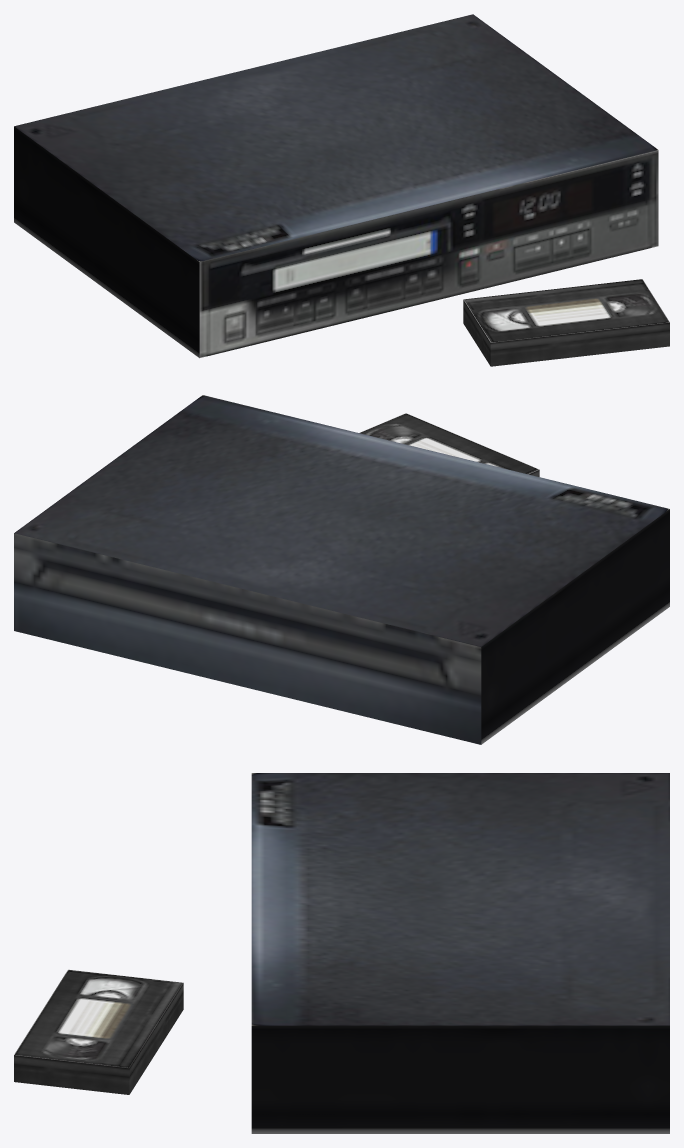
Rendered from VHS.fbx.
The picture shows the model from 3 angles, top to bottom: view 1: azimuth 30°, elevation 25°; view 2: azimuth 150°, elevation 25°; view 3: azimuth 270°, elevation 25°; orthographic projection. The views are drawn at different scales.
Parts seen in each view (by area): view 1: VHSPlayer, VHSTape; view 2: VHSPlayer, VHSTape; view 3: VHSPlayer, VHSTape.
Boxes of the visible parts, bbox=[...] form: VHSPlayer: bbox=[14, 14, 658, 358]; VHSTape: bbox=[463, 279, 669, 366]; VHSPlayer: bbox=[14, 395, 669, 744]; VHSTape: bbox=[359, 413, 539, 476]; VHSPlayer: bbox=[251, 773, 669, 1133]; VHSTape: bbox=[14, 969, 183, 1094].
Bounding box in the file's own units: 66 × 13.2 × 72.46.
Materials: 1 (1 with a texture image).
